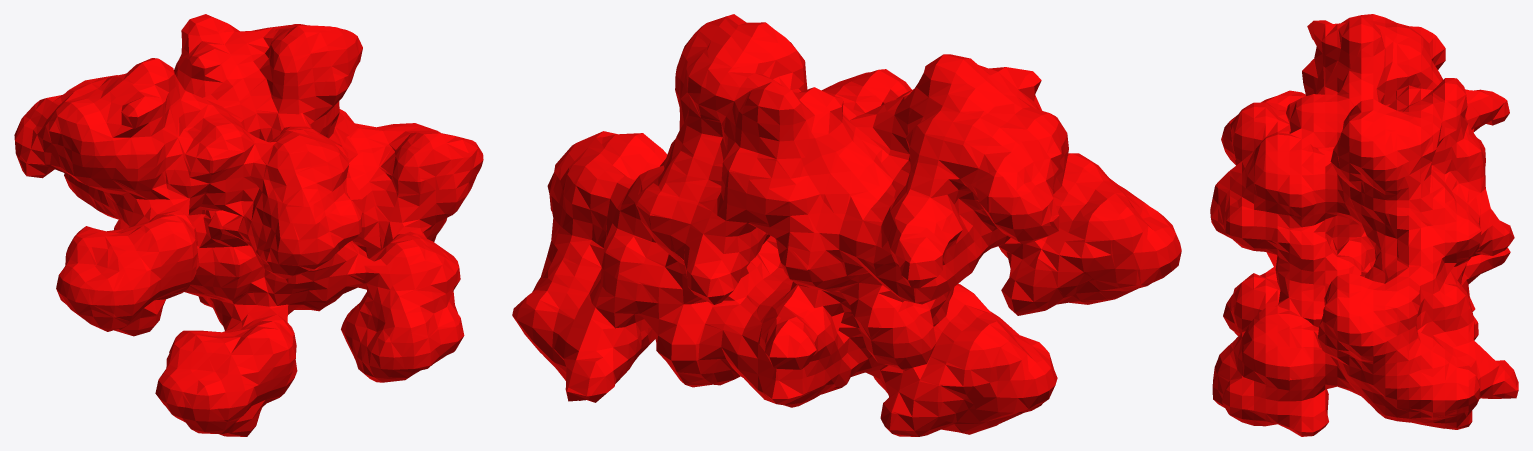
The model's file is Ras_homolog_gene_family__membe_coarse.dae.
3 renders of one model, left to right at view 1: azimuth 30°, elevation 25°; view 2: azimuth 150°, elevation 25°; view 3: azimuth 270°, elevation 25°, orthographic. The views are drawn at different scales.
Parts seen in each view (by area): view 1: Ras_homolog_gene_family__membe; view 2: Ras_homolog_gene_family__membe; view 3: Ras_homolog_gene_family__membe.
Boxes of the visible parts, <box> form: Ras_homolog_gene_family__membe: <box>14,14,483,436</box>; Ras_homolog_gene_family__membe: <box>512,14,1181,436</box>; Ras_homolog_gene_family__membe: <box>1210,14,1518,436</box>.
Size of the model in its own units: 161 by 116 by 97.44.
